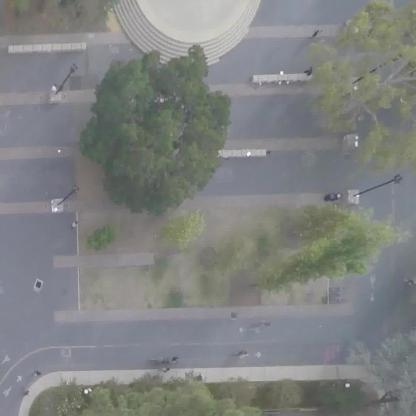Bicyclist: (152, 350, 180, 365), (255, 317, 275, 331), (232, 343, 252, 357)
Pedestrian: (47, 82, 61, 96), (19, 385, 31, 401), (298, 66, 314, 78), (66, 220, 80, 232), (30, 366, 42, 379), (310, 25, 320, 37), (161, 366, 169, 376)
